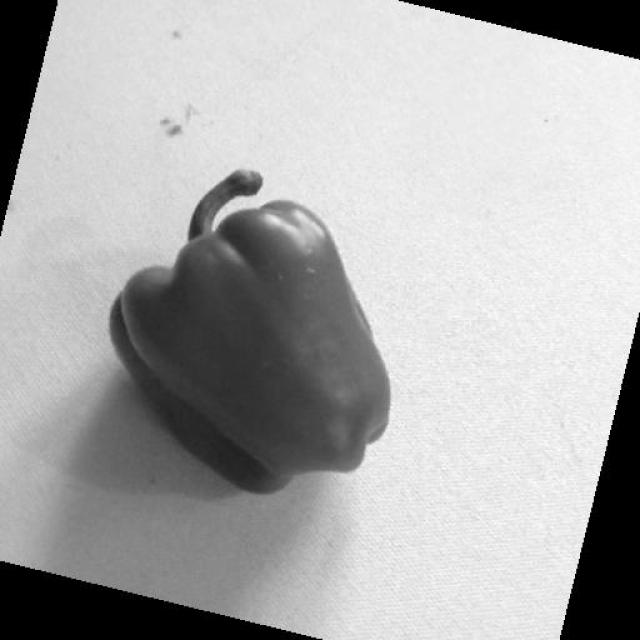Fresh_Capsicum: (105, 138, 412, 483)
